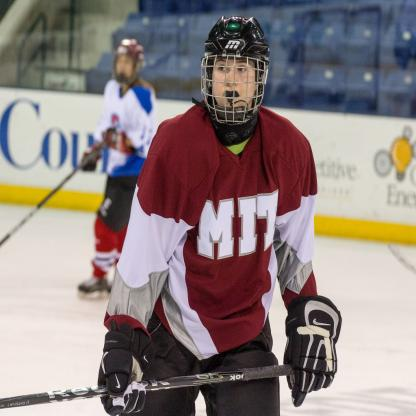Helmet: (201, 16, 266, 133), (114, 38, 150, 86)
